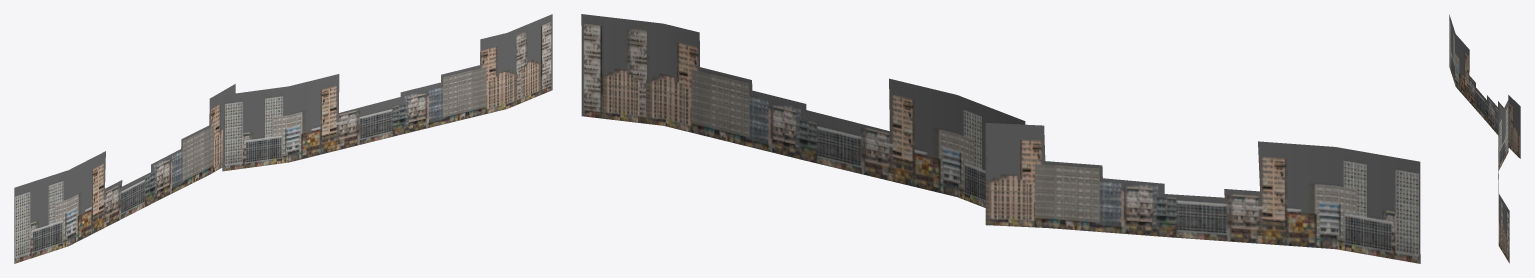
Rendered from sh_backbd.FBX.
3 renders of one model, left to right at view 1: azimuth 30°, elevation 25°; view 2: azimuth 150°, elevation 25°; view 3: azimuth 270°, elevation 25°, orthographic. The views are drawn at different scales.
Parts seen in each view (by area): view 1: sh_backbd_00; view 2: sh_backbd_00; view 3: sh_backbd_00.
Boxes of the visible parts, left/top/right/bottom form: sh_backbd_00: left=14, top=14, right=552, bottom=263; sh_backbd_00: left=581, top=14, right=1420, bottom=263; sh_backbd_00: left=1449, top=14, right=1520, bottom=263.
Bounding box in the file's own units: 295 × 36.97 × 45.15.
